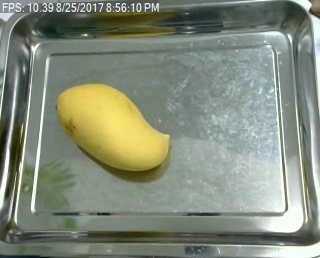Mango: (53, 79, 173, 174)
